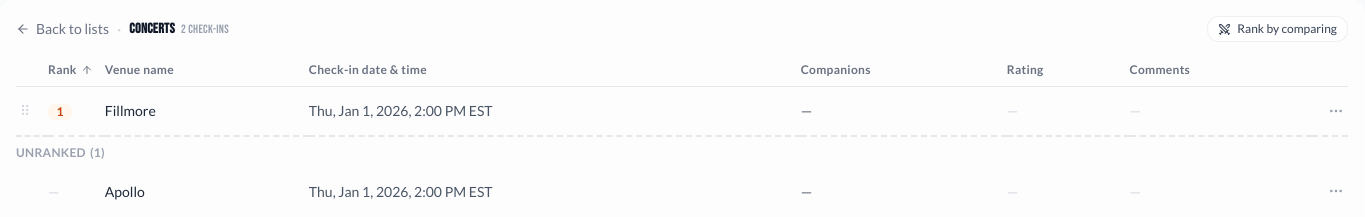
Test: CheckinListsSection › opens the list named by the checkinList deep-link param
Check: the link "Fillmore" is shown, box [105,102,156,119]
Check: the link "Apollo" is shown, box [105,182,145,200]
Note: Back to the index.
Click the button "Back to lists": x=62, y=29 [16,19,109,39]
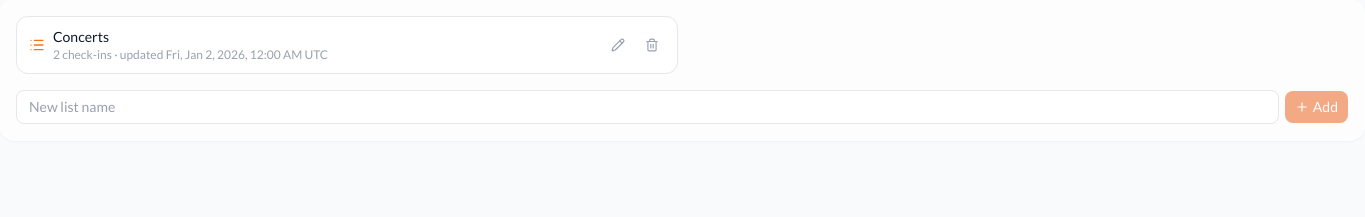
Check: the link "Apollo" is gone
